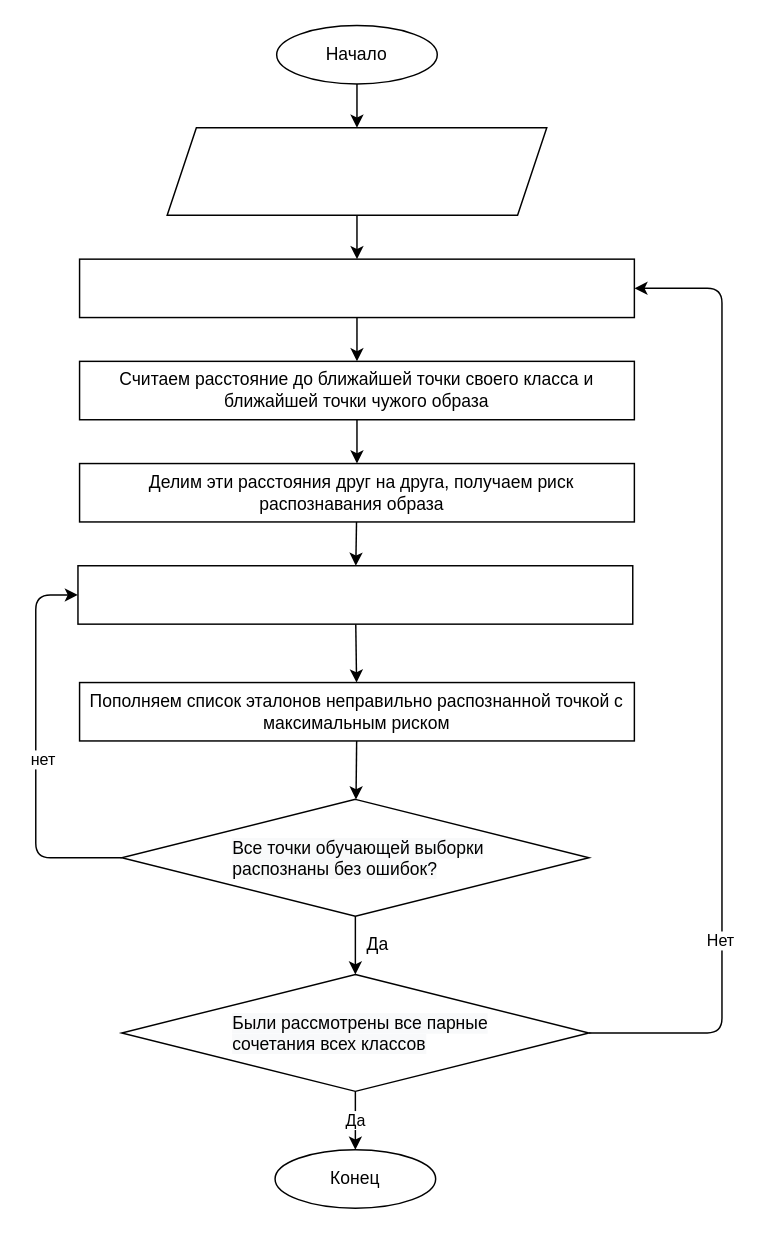
The diagram is 759 pixels wide and 1234 high, and some of its shapes have lost their labels. Here are the shapes that lost their labels. From the top down, the box of each, then its label:
(166, 126, 547, 215): Входные данные, обучающая выборка, классы
(78, 258, 634, 318): Находим два самых близких класса
(77, 564, 633, 624): Пробное распознавание с использованием правила ближайшего соседа
